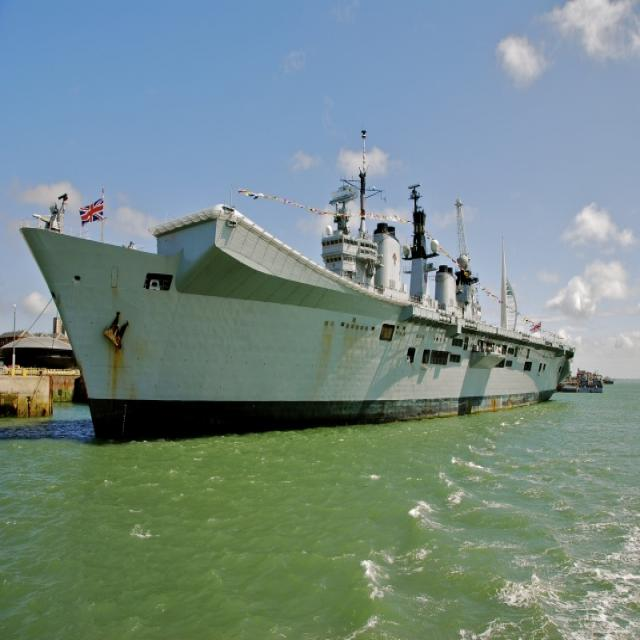Portanaves: (19, 121, 576, 448)
